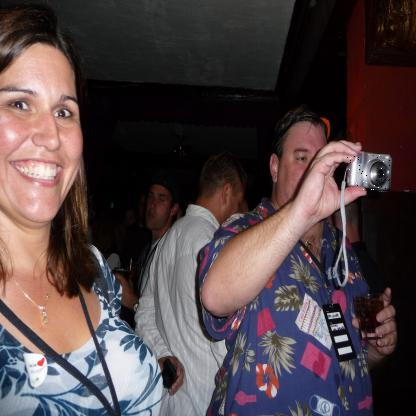Camera: (347, 155, 392, 193)
